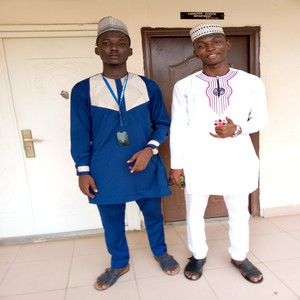Fulokoja_male_student: (71, 29, 173, 272), (178, 32, 264, 282)
